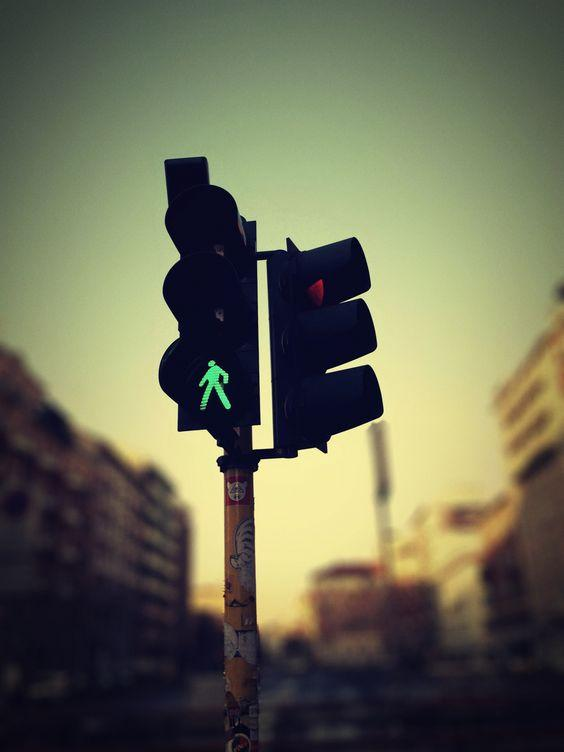Traffic light green: (146, 190, 268, 440)
